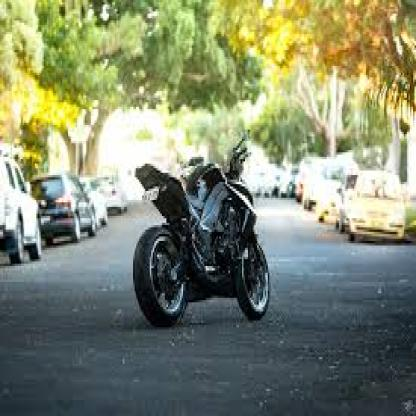bike: (132, 140, 271, 328)
car: (39, 167, 98, 245), (2, 158, 44, 264), (349, 177, 411, 243)
